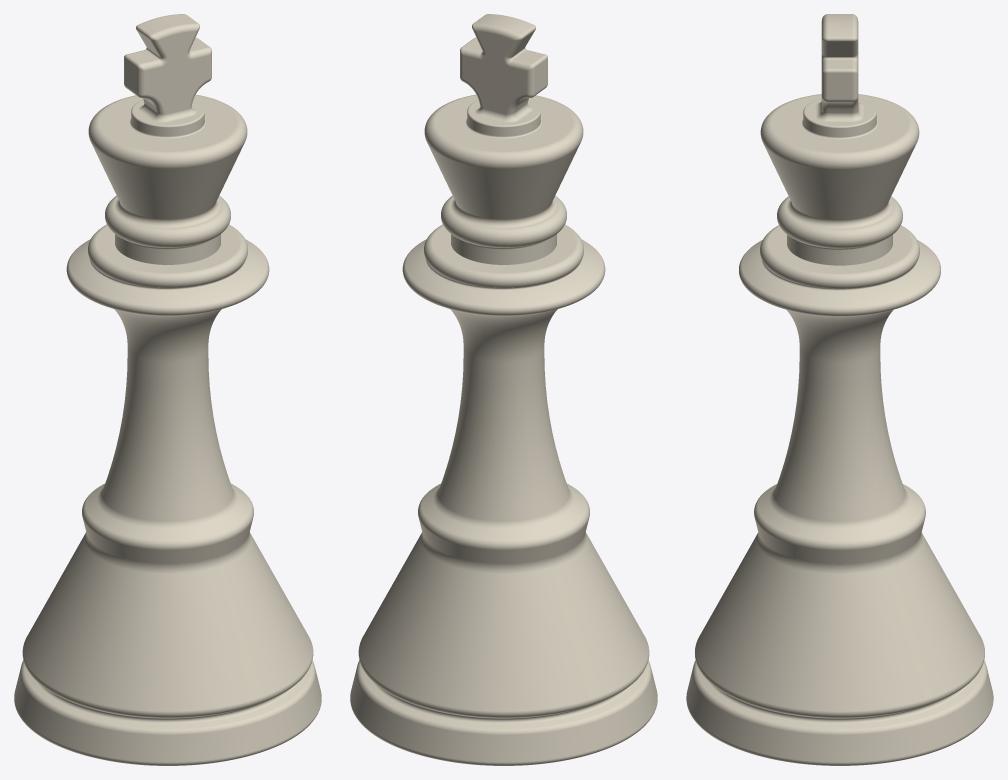
Rendered from King_small.glb.
3 renders of one model, left to right at view 1: azimuth 30°, elevation 25°; view 2: azimuth 150°, elevation 25°; view 3: azimuth 270°, elevation 25°, orthographic.
Visible parts, largest first — view 1: Object_2; view 2: Object_2; view 3: Object_2.
Boxes of the visible parts, bbox=[...] form: Object_2: bbox=[14, 14, 321, 765]; Object_2: bbox=[350, 14, 657, 765]; Object_2: bbox=[686, 14, 993, 765].
Size of the model in its own units: 40.76 by 99.52 by 40.75.
